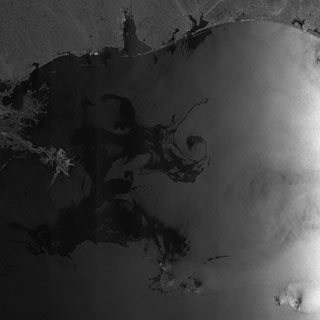anomaly: (48, 101, 215, 290)
